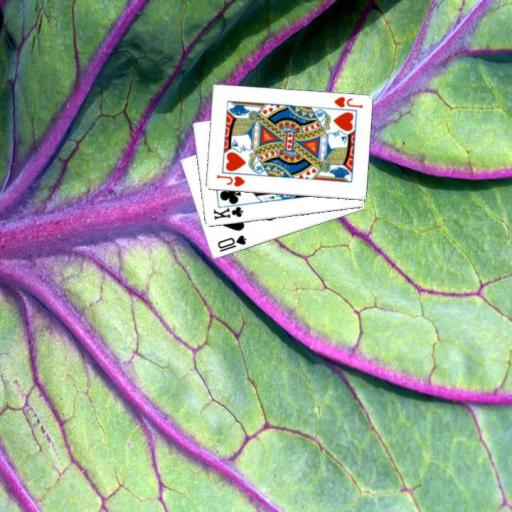10S: (214, 232, 248, 254)
JH: (213, 172, 246, 189), (331, 94, 363, 109)
KC: (210, 201, 246, 221)
